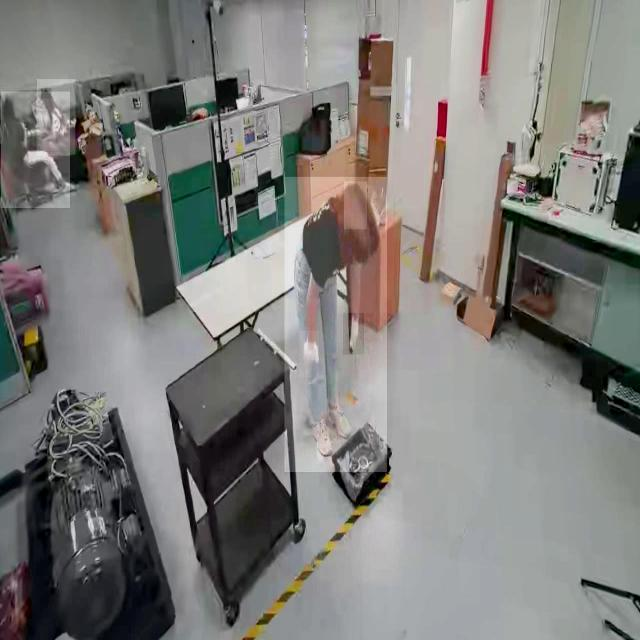hand_glove: (299, 330, 319, 378), (342, 313, 364, 355)
head_nohelmet: (344, 182, 367, 230), (2, 97, 14, 110), (41, 88, 51, 99)
person: (284, 177, 387, 473), (0, 91, 70, 209), (36, 79, 76, 156)
shoes: (324, 403, 352, 441), (312, 416, 334, 460)
